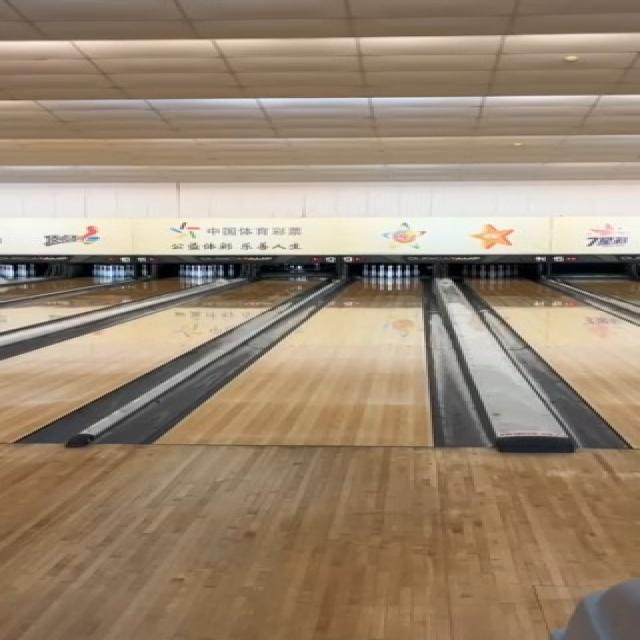alley: (153, 276, 439, 448)
bottle: (360, 262, 425, 281)
